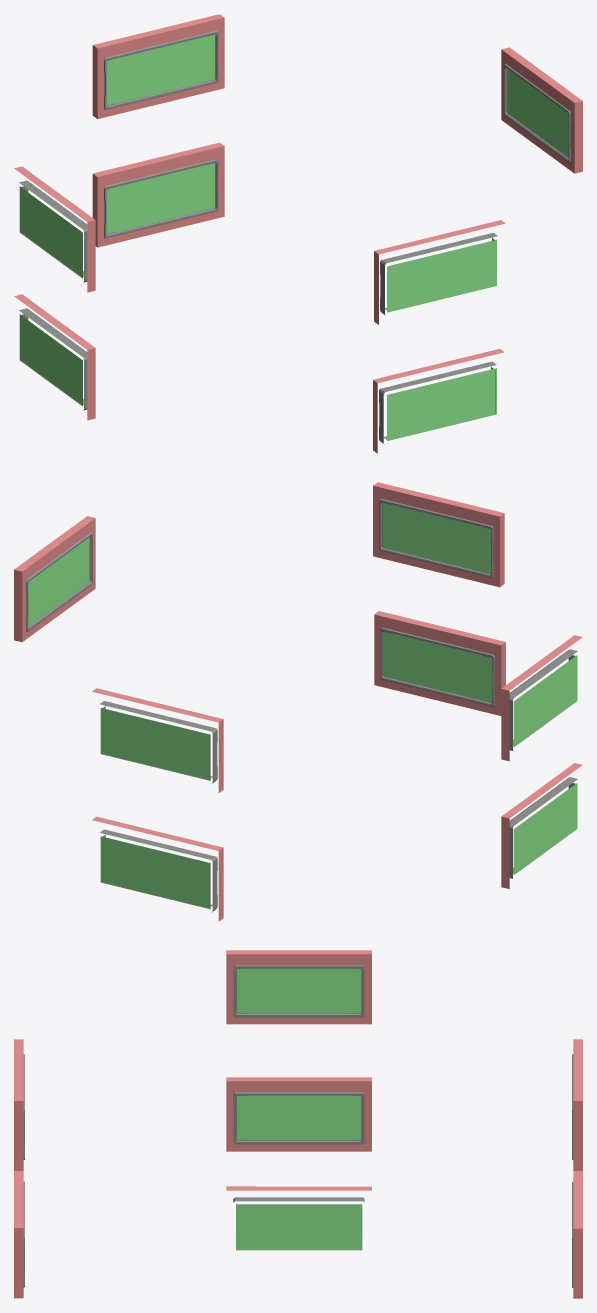
File: S_Envi_Central_Props_017.gltf
3 views of the same model, one above another, from view 1: azimuth 30°, elevation 25°; view 2: azimuth 150°, elevation 25°; view 3: azimuth 270°, elevation 25° (orthographic).
Parts seen in each view (by area): view 1: S_Envi_Central_Props_017; view 2: S_Envi_Central_Props_017; view 3: S_Envi_Central_Props_017.
Boxes of the visible parts, <box> form: S_Envi_Central_Props_017: <box>14,14,582,453</box>; S_Envi_Central_Props_017: <box>14,482,582,921</box>; S_Envi_Central_Props_017: <box>14,950,582,1298</box>.
Bounding box in the file's own units: 88.12 × 33.82 × 88.11.
